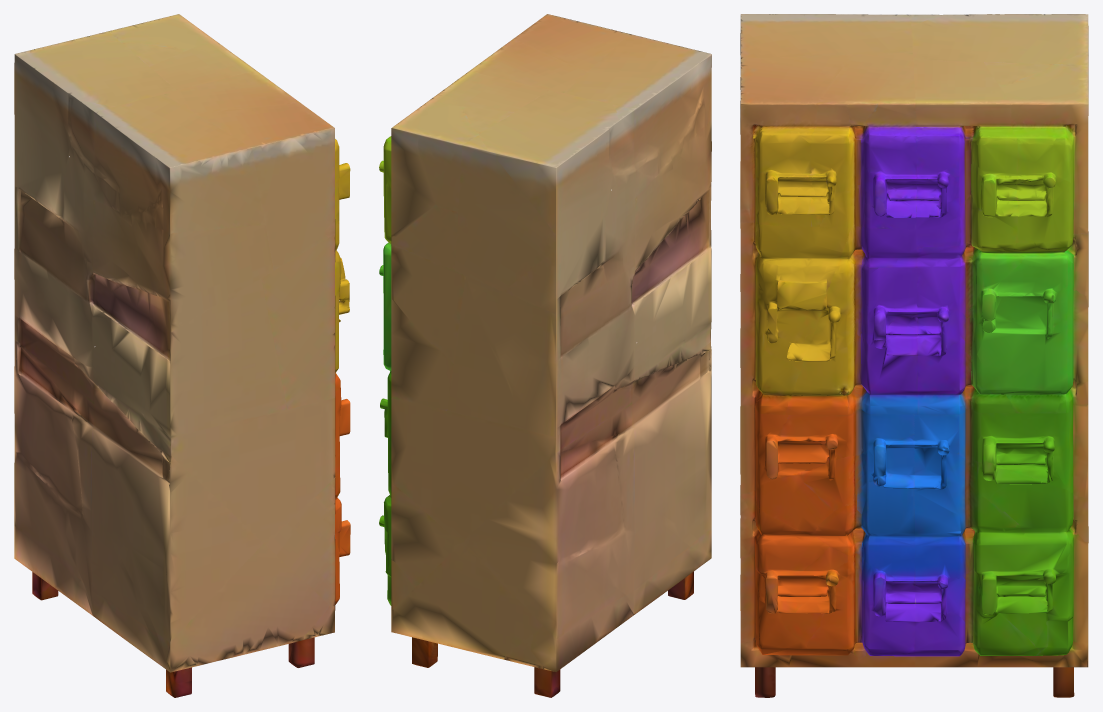
The model's file is bg_locker.glb.
3 renders of one model, left to right at view 1: azimuth 30°, elevation 25°; view 2: azimuth 150°, elevation 25°; view 3: azimuth 270°, elevation 25°, orthographic. The views are drawn at different scales.
Visible parts, largest first — view 1: tripo_node_fc1c1bc6-e26a-4923-9df7-d34b53e45977; view 2: tripo_node_fc1c1bc6-e26a-4923-9df7-d34b53e45977; view 3: tripo_node_fc1c1bc6-e26a-4923-9df7-d34b53e45977.
Boxes of the visible parts, x1,y1,x2,y2 form: tripo_node_fc1c1bc6-e26a-4923-9df7-d34b53e45977: (14,14,350,697); tripo_node_fc1c1bc6-e26a-4923-9df7-d34b53e45977: (379,14,711,697); tripo_node_fc1c1bc6-e26a-4923-9df7-d34b53e45977: (740,14,1088,697).
Bounding box in the file's own units: 0.3756 × 1 × 0.5239.
1 material, 1 textured.
